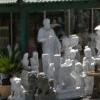Statue: (29, 16, 99, 96)
